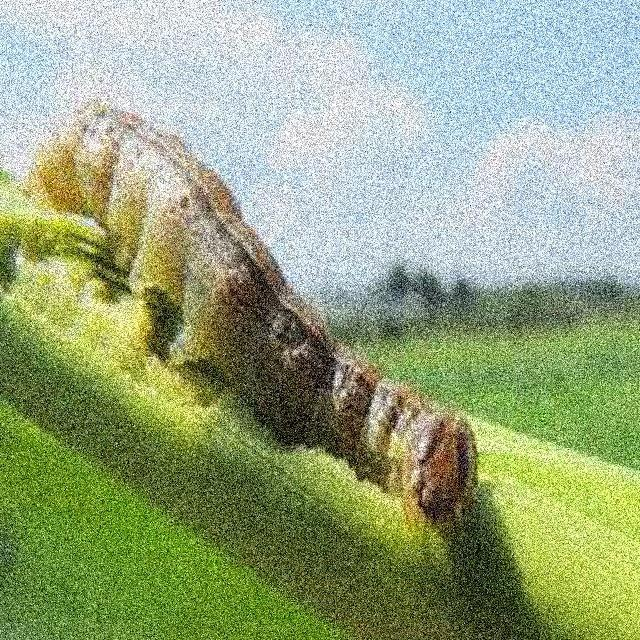Plaga: (35, 99, 483, 532)
